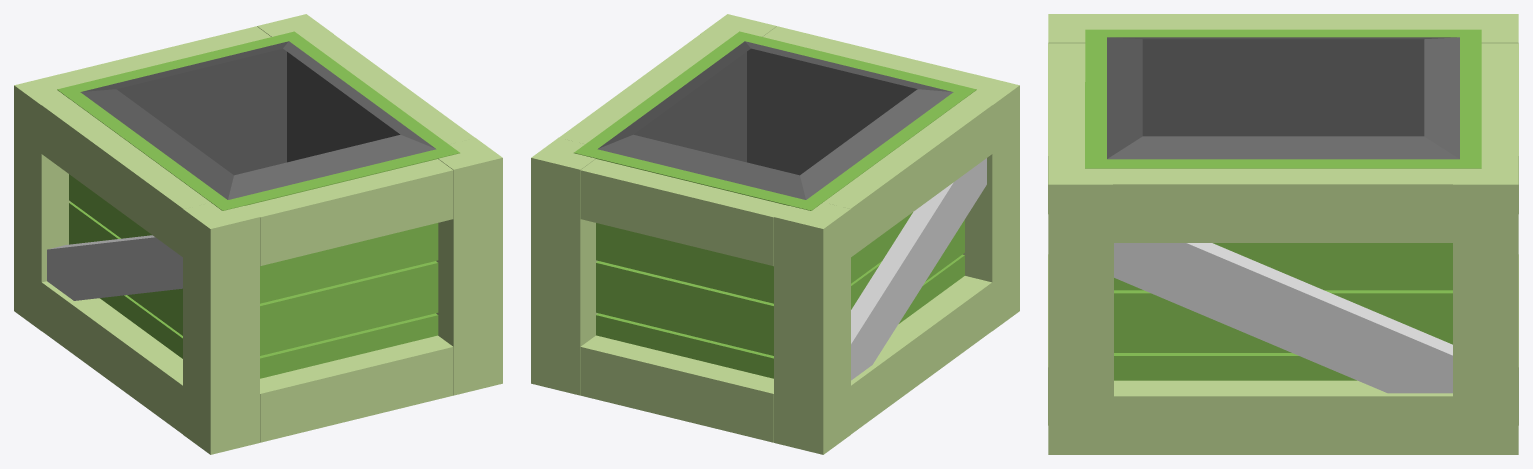
The model's file is BOTEDEBASURA.fbx.
The picture shows the model from 3 angles, left to right: view 1: azimuth 30°, elevation 25°; view 2: azimuth 150°, elevation 25°; view 3: azimuth 270°, elevation 25°; orthographic projection. The views are drawn at different scales.
Parts seen in each view (by area): view 1: Cube, Cube.009, Cube.011, Cube.010, Cube.005, Cube.012; view 2: Cube, Cube.009, Cube.011, Cube.010, Cube.005, Cube.012; view 3: Cube.005, Cube.011, Cube, Cube.009, Cube.012, Cube.010.
Part boxes in pixels (x1,y1,x2,y2): Cube: [14, 14, 502, 454]; Cube.009: [57, 31, 459, 378]; Cube.011: [80, 41, 436, 199]; Cube.010: [64, 26, 453, 442]; Cube.005: [41, 34, 474, 434]; Cube.012: [47, 235, 182, 300]; Cube: [531, 14, 1019, 454]; Cube.009: [574, 31, 976, 378]; Cube.011: [597, 41, 953, 199]; Cube.010: [580, 26, 969, 442]; Cube.005: [559, 34, 992, 434]; Cube.012: [851, 158, 986, 380]; Cube.005: [1113, 14, 1452, 454]; Cube.011: [1107, 37, 1459, 159]; Cube: [1048, 14, 1518, 454]; Cube.009: [1085, 29, 1481, 380]; Cube.012: [1114, 243, 1452, 393]; Cube.010: [1048, 43, 1518, 425].
Size of the model in its own units: 162 by 125 by 189.
